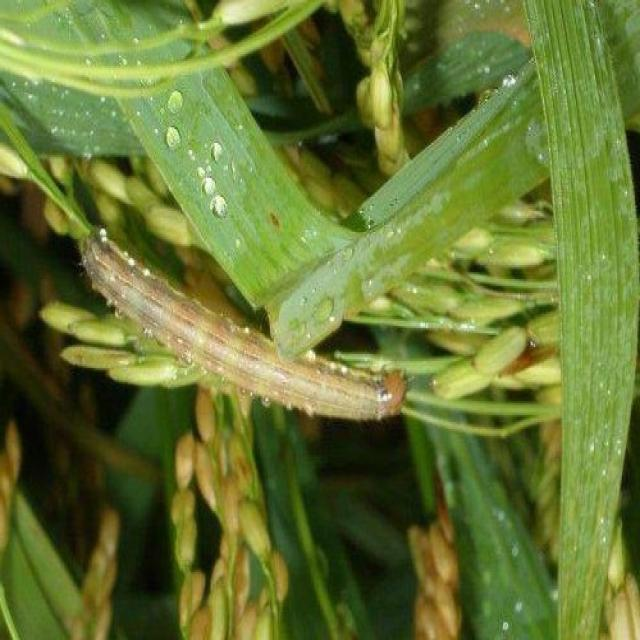army worm: (75, 215, 409, 426)
